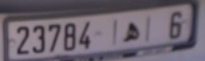2: (15, 26, 29, 55)
3: (32, 25, 45, 53)
4: (79, 20, 91, 48)
6: (168, 11, 182, 37)
7: (48, 22, 60, 52)
8: (63, 24, 76, 50)
h: (122, 21, 139, 41)
